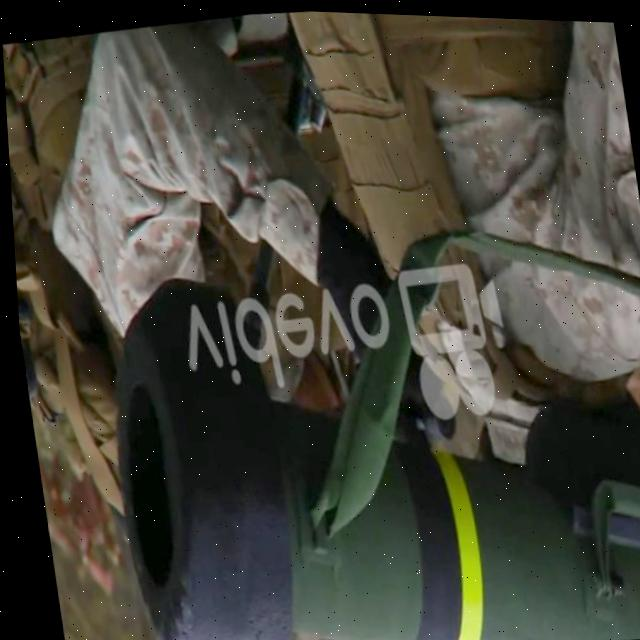rocket: (64, 211, 640, 640)
